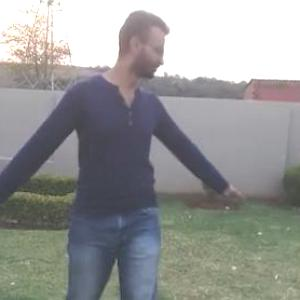land: (0, 9, 248, 299)
